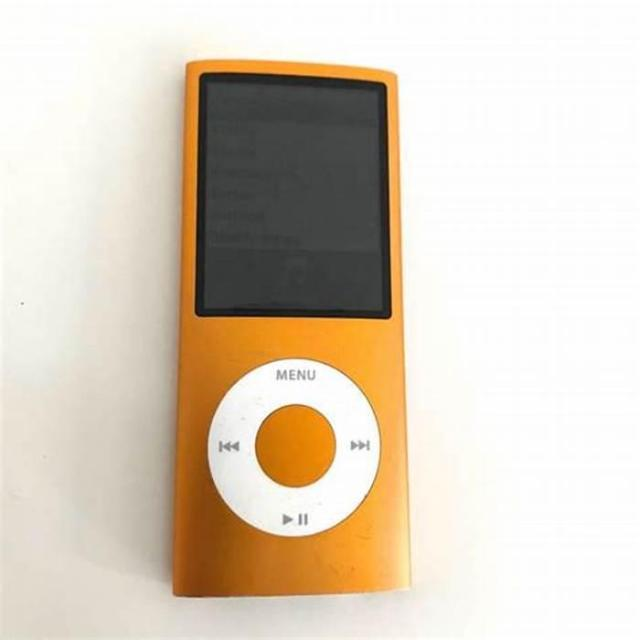Music-Player: (160, 49, 418, 609)
